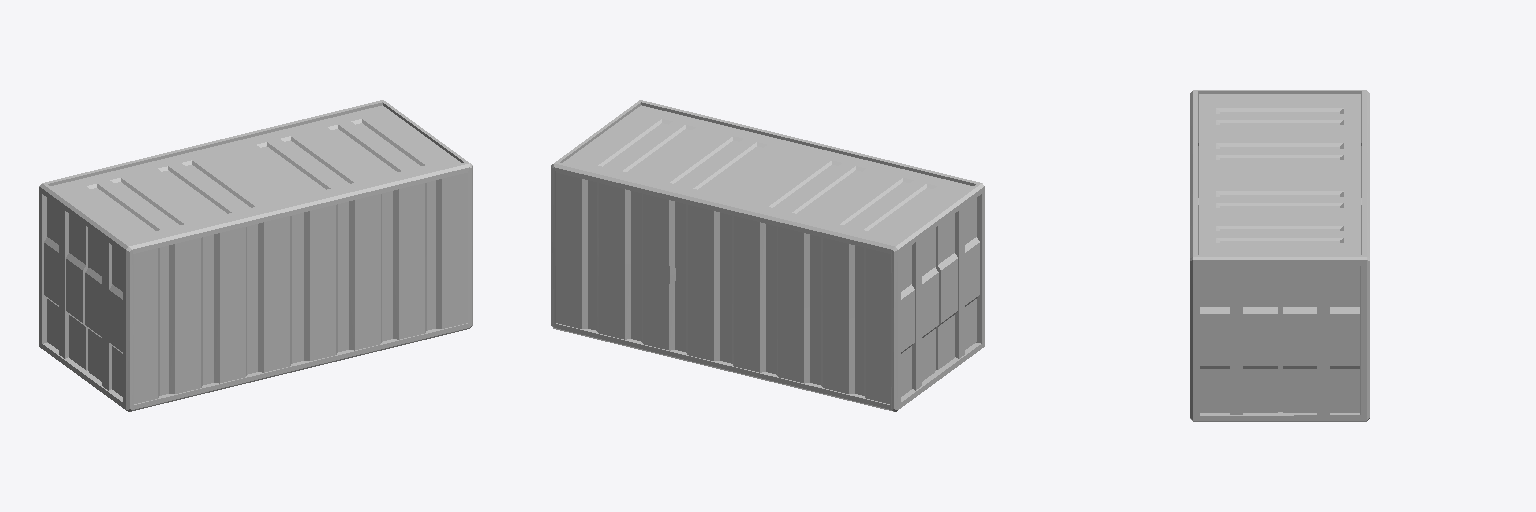
Rendered from Container_Red.obj.
3 renders of one model, left to right at view 1: azimuth 30°, elevation 25°; view 2: azimuth 150°, elevation 25°; view 3: azimuth 270°, elevation 25°, orthographic.
Parts seen in each view (by area): view 1: Container_Red_Cube.004; view 2: Container_Red_Cube.004; view 3: Container_Red_Cube.004.
Boxes of the visible parts, <box> form: Container_Red_Cube.004: <box>39,100,472,411</box>; Container_Red_Cube.004: <box>551,100,984,411</box>; Container_Red_Cube.004: <box>1190,90,1369,421</box>.
Bounding box in the file's own units: 5.71 × 2.6 × 2.56.